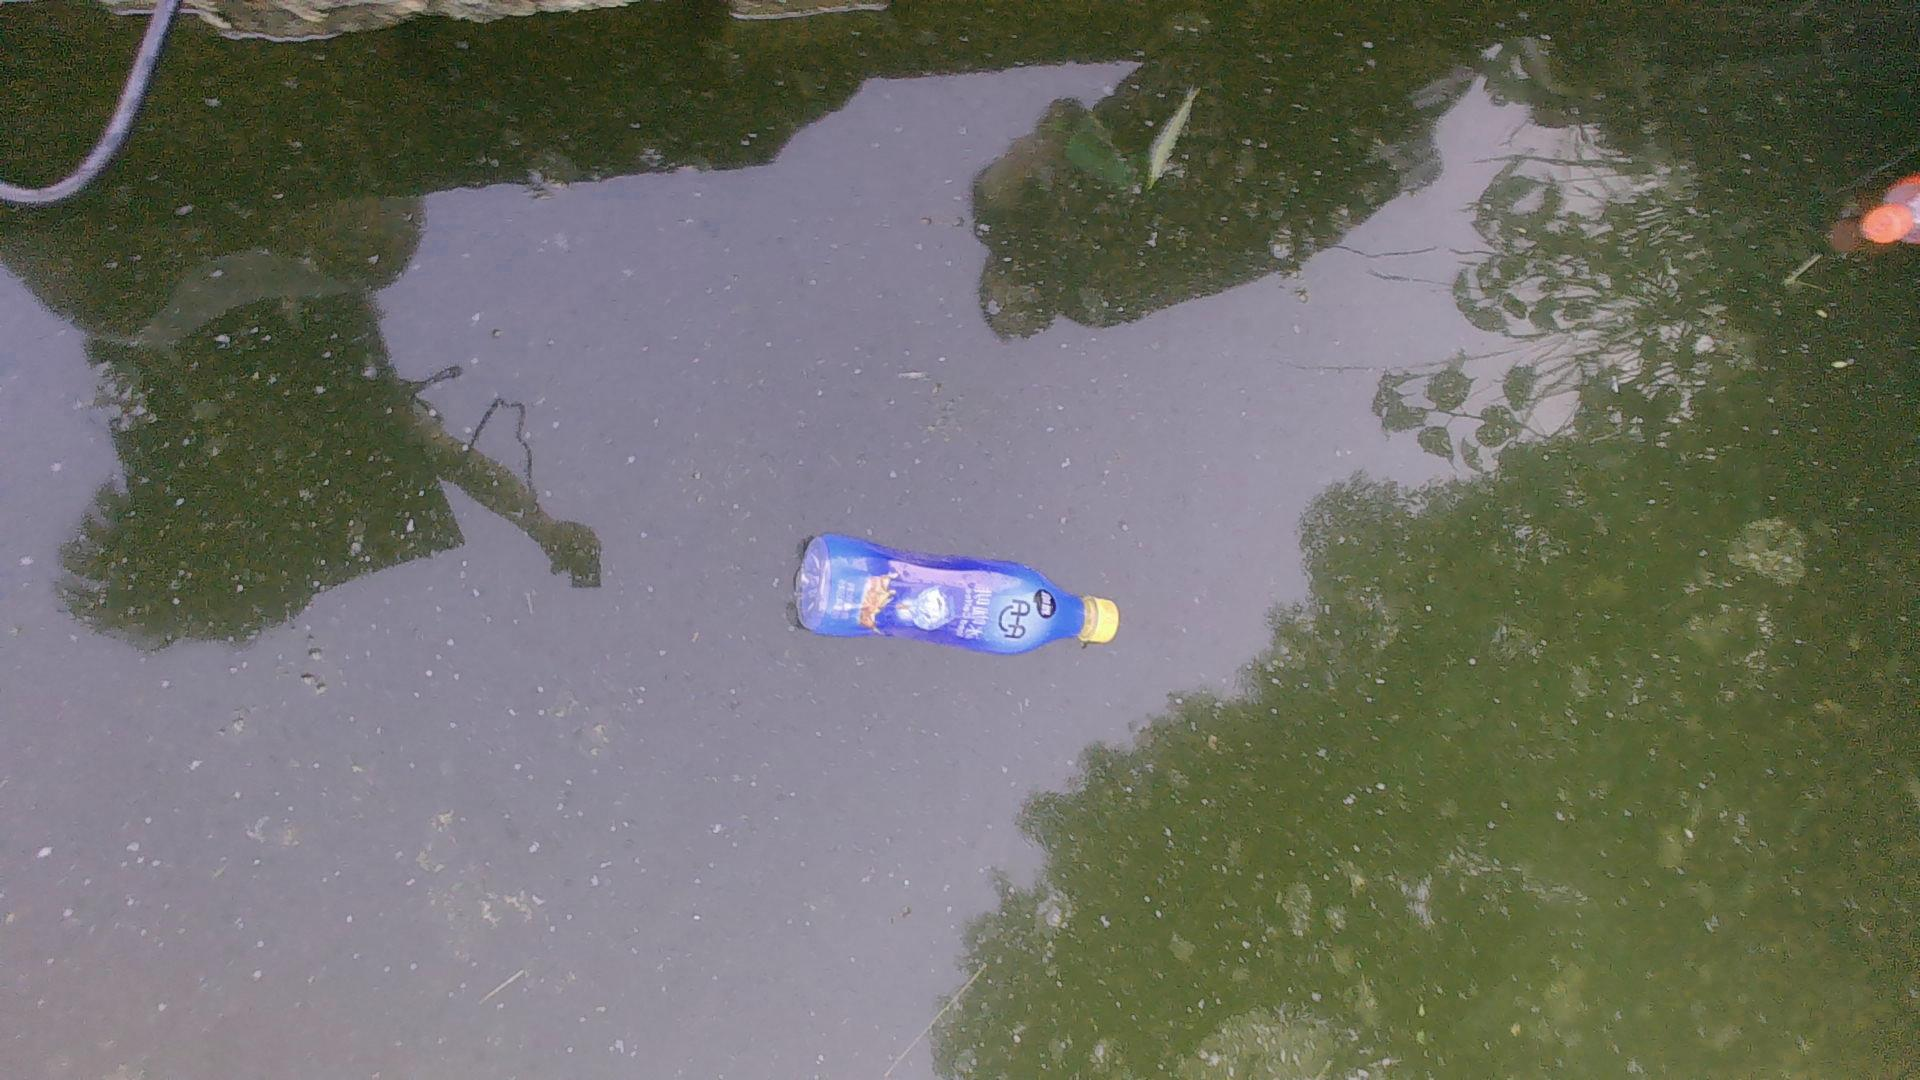Plastic: (791, 529, 1124, 659)
